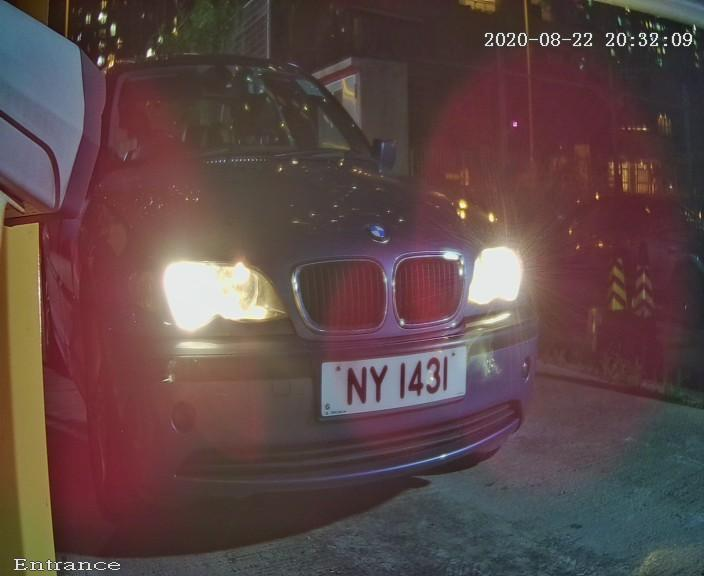Car: (16, 13, 607, 541)
License Plate: (286, 325, 502, 441)
